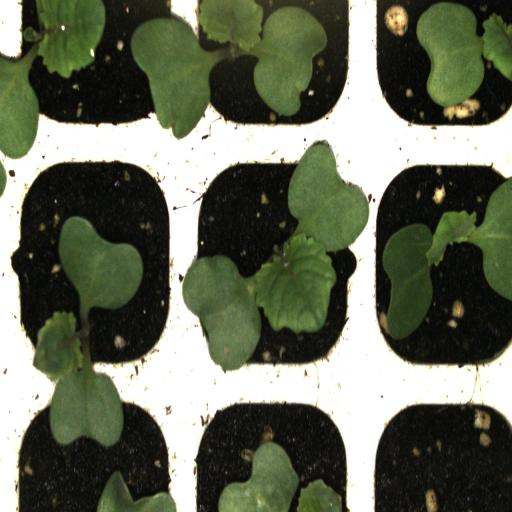Folha: (416, 0, 512, 108), (218, 441, 342, 512)
Germinacao: (183, 140, 365, 378), (10, 140, 183, 377), (364, 138, 512, 384), (186, 0, 362, 138), (10, 0, 182, 131)
